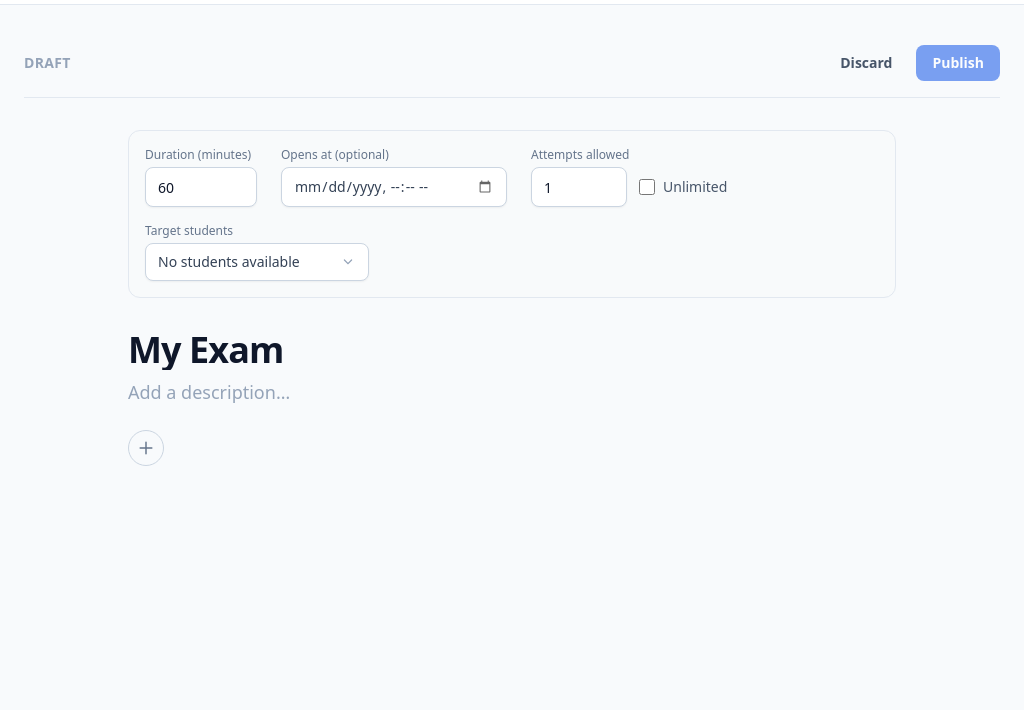
it: exam editor (Medium-style) › adds a true/false question via the + menu
Expected: the field showing "My Exam" is shown, left=128, top=330, right=896, bottom=370
Click the button named "add a question": x=146, y=448 left=128, top=430, right=164, bottom=466
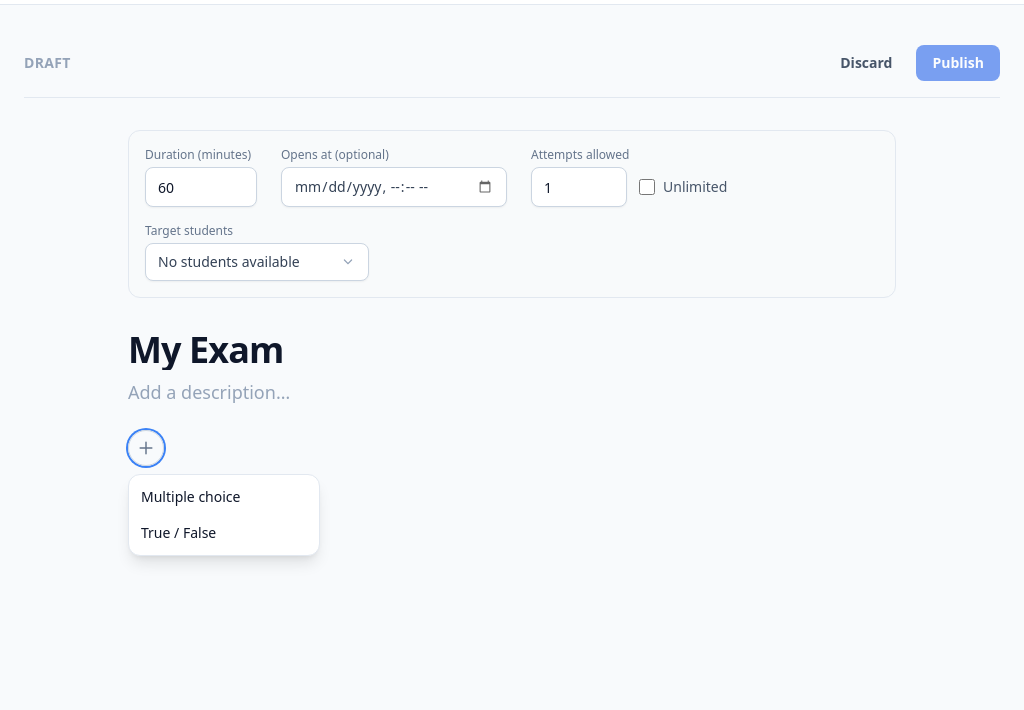
Click the menu item "True / False": x=224, y=533 left=129, top=515, right=319, bottom=551
(page scrolled)
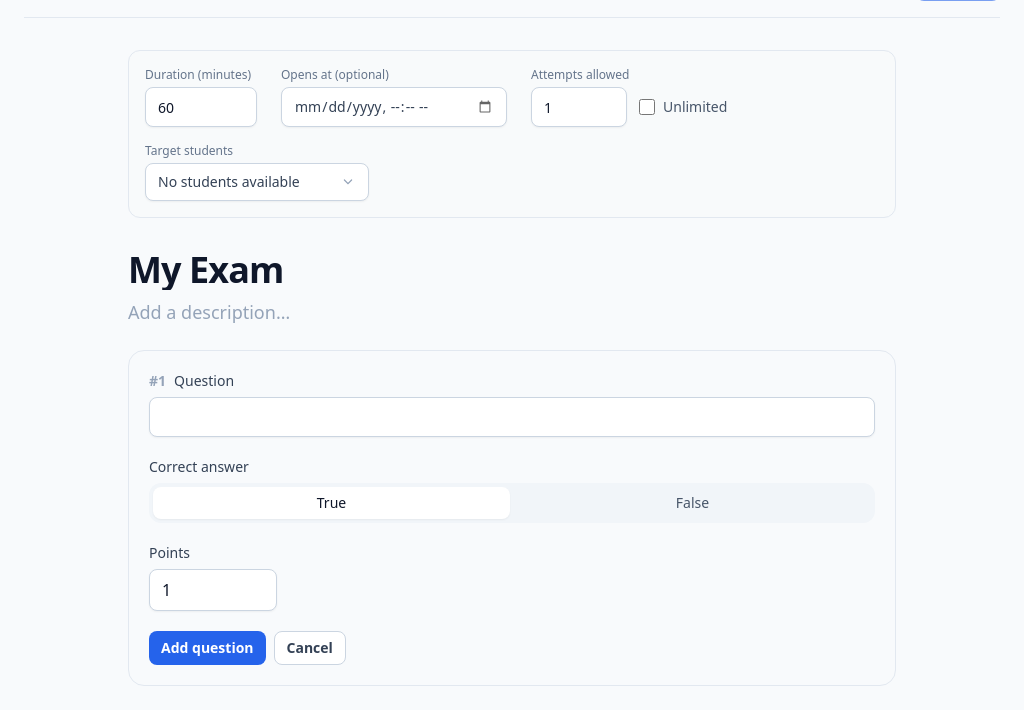
In the text box labelled "Question": x=512, y=417 left=149, top=397, right=875, bottom=437, type "The sky is green."
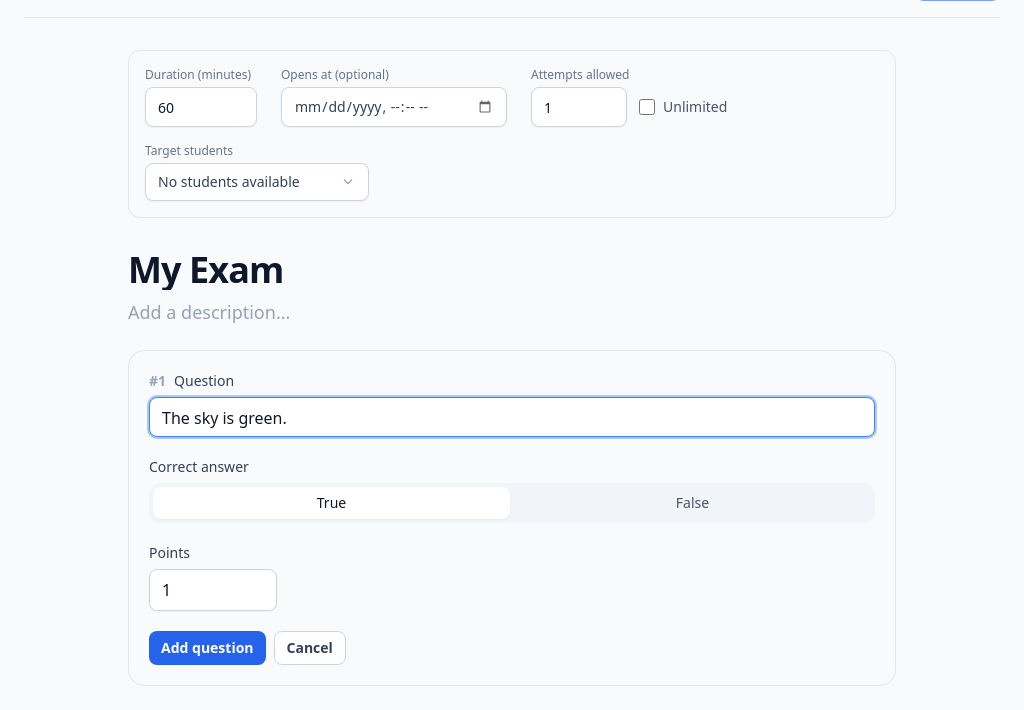
Click the radio button labelled "False": x=692, y=503 left=514, top=487, right=871, bottom=519
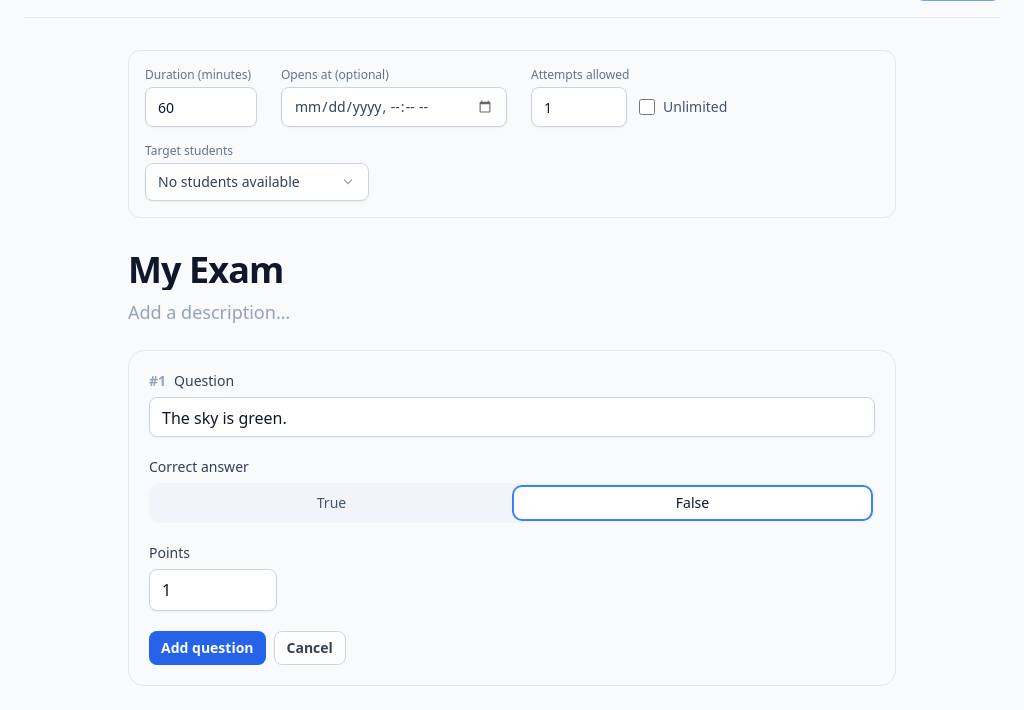
Click the button "Add question": x=207, y=648 left=149, top=631, right=266, bottom=665
(page scrolled)
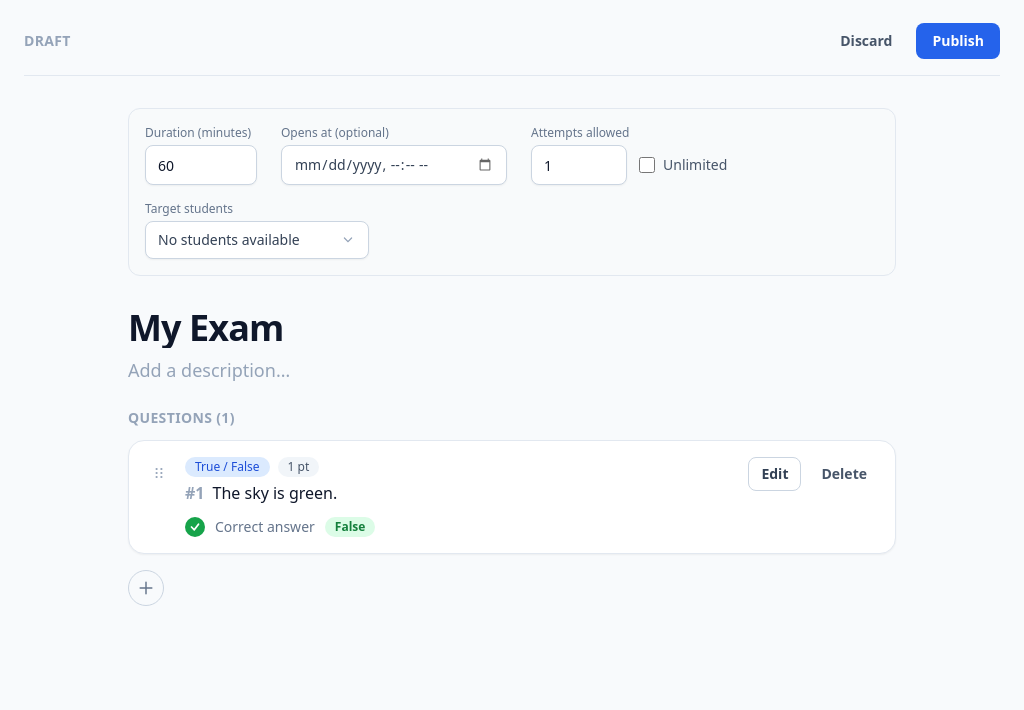
Expected: the text "The sky is green." is shown, left=212, top=482, right=337, bottom=504
